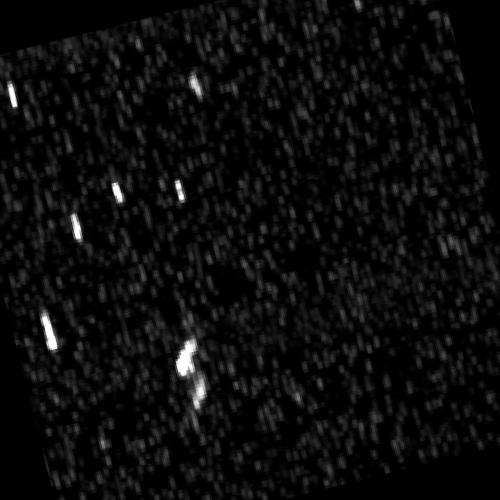ship: (174, 333, 199, 378), (39, 310, 60, 353), (190, 370, 210, 411), (109, 177, 127, 207), (188, 72, 206, 101), (70, 212, 84, 244), (174, 177, 188, 205), (7, 78, 19, 108)
